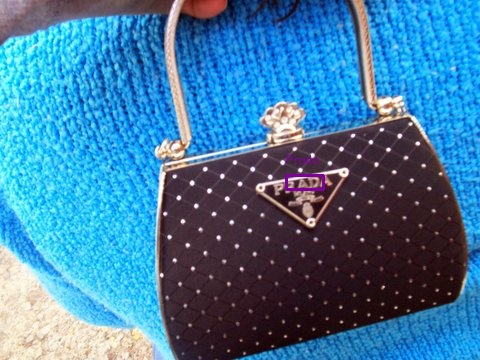Prada: (256, 169, 349, 229)
